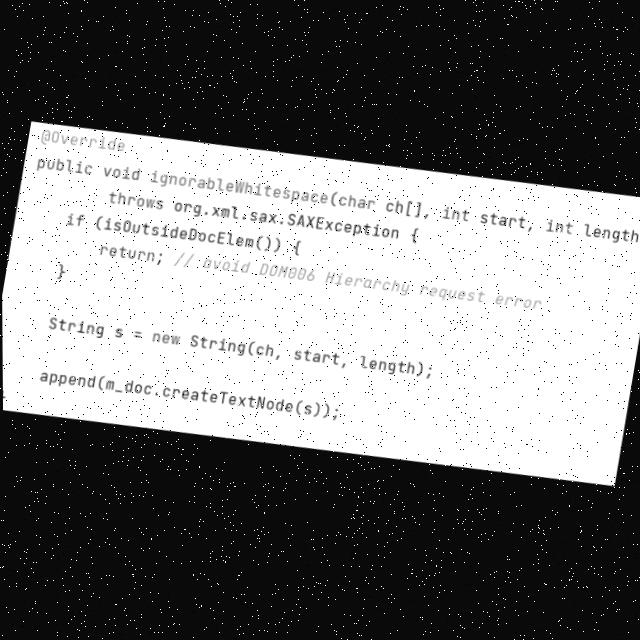code_screen: (2, 122, 640, 484)
